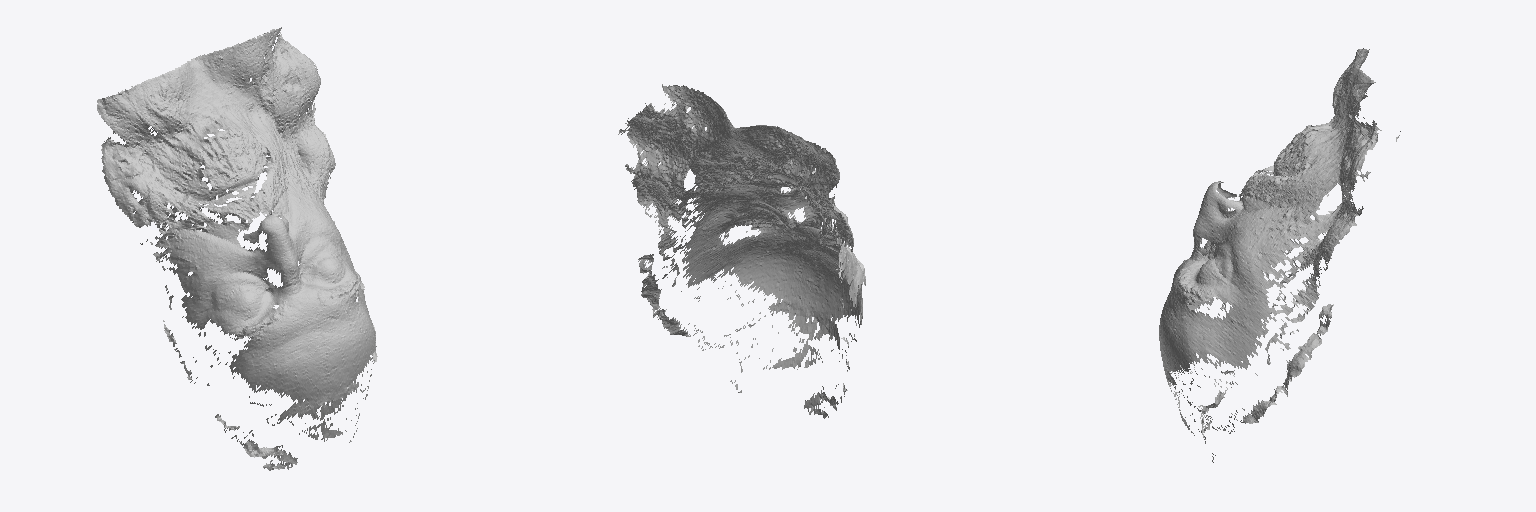
The model's file is jakA108507.obj.
3 views of the same model, side by side, from view 1: azimuth 30°, elevation 25°; view 2: azimuth 150°, elevation 25°; view 3: azimuth 270°, elevation 25° (orthographic).
Bounding box in the file's own units: 4.14 × 6.29 × 3.71.